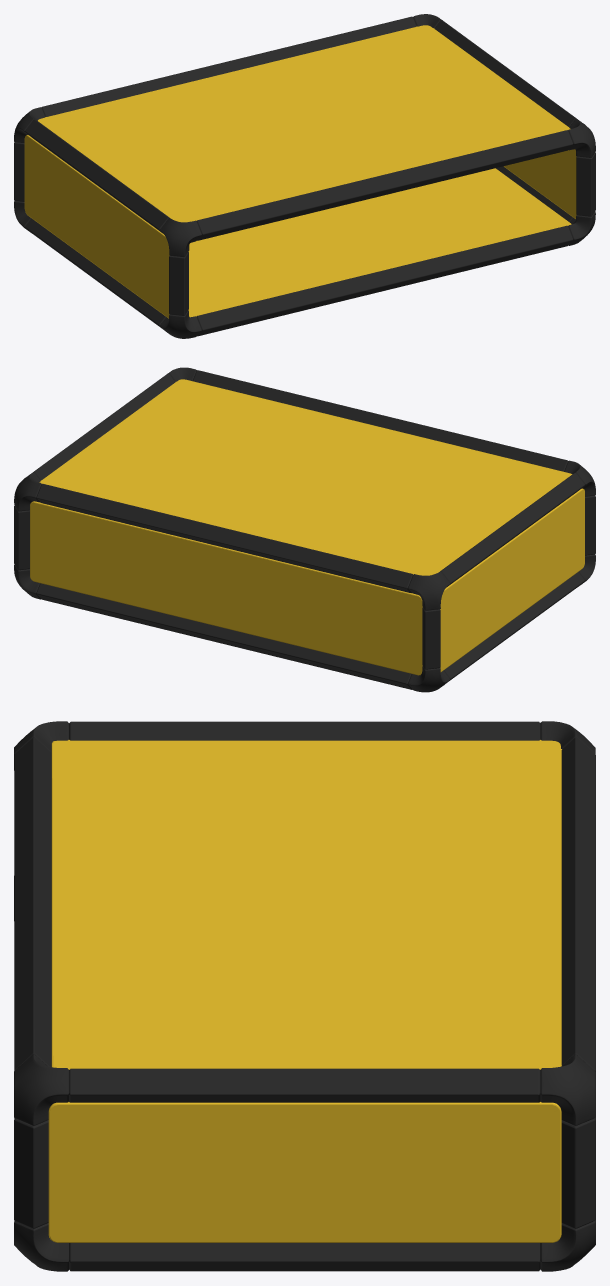
3 renders of one model, top to bottom at view 1: azimuth 30°, elevation 25°; view 2: azimuth 150°, elevation 25°; view 3: azimuth 270°, elevation 25°, orthographic. The views are drawn at different scales.
Visible parts, largest first — view 1: 523x329x79; view 2: 523x329x79; view 3: 523x329x79.
Boxes of the visible parts, bbox=[...] form: 523x329x79: bbox=[14, 14, 595, 338]; 523x329x79: bbox=[14, 367, 595, 692]; 523x329x79: bbox=[14, 721, 595, 1271].
Size of the model in its own units: 0.6007 by 0.1567 by 0.4062.
